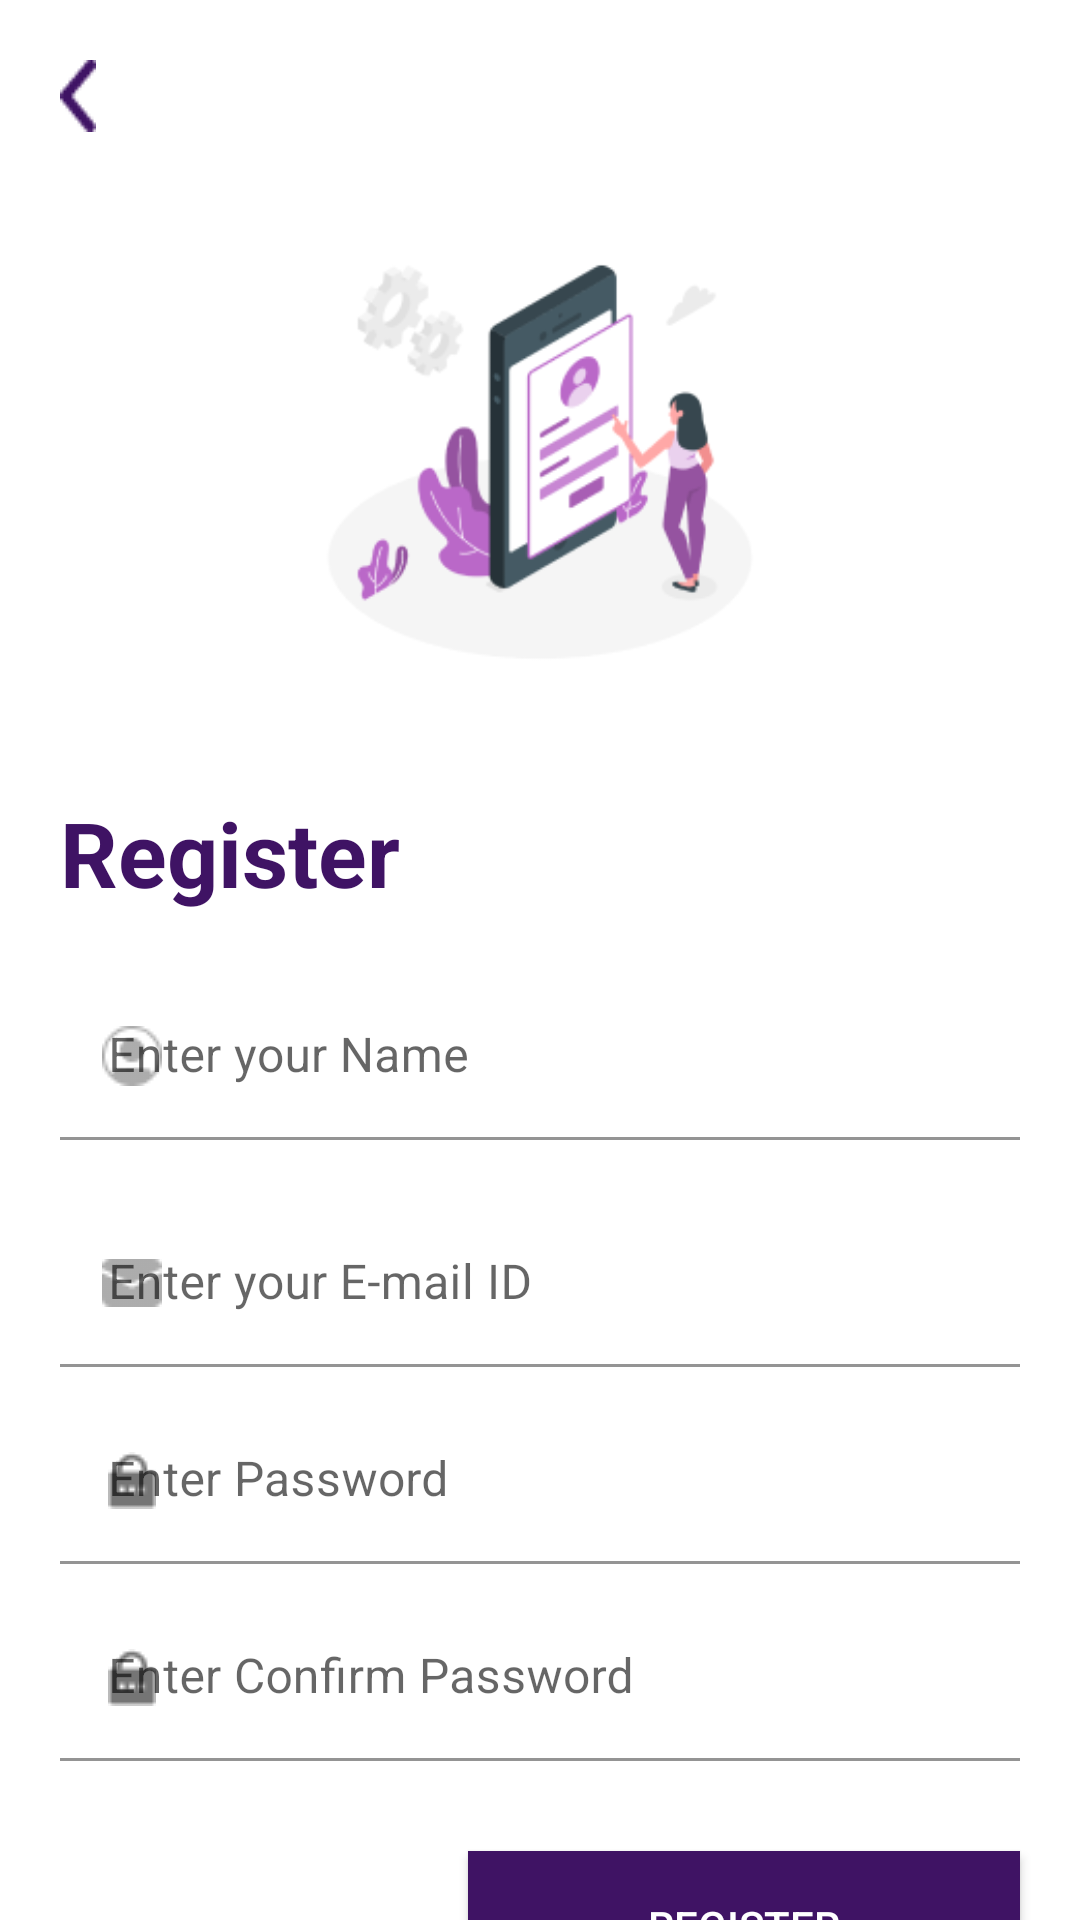

Icons on this 1080px×1920px Android screen, each with its box as Rect(x1, y1, x2, y2):
backbtn: Rect(60, 60, 96, 132)
